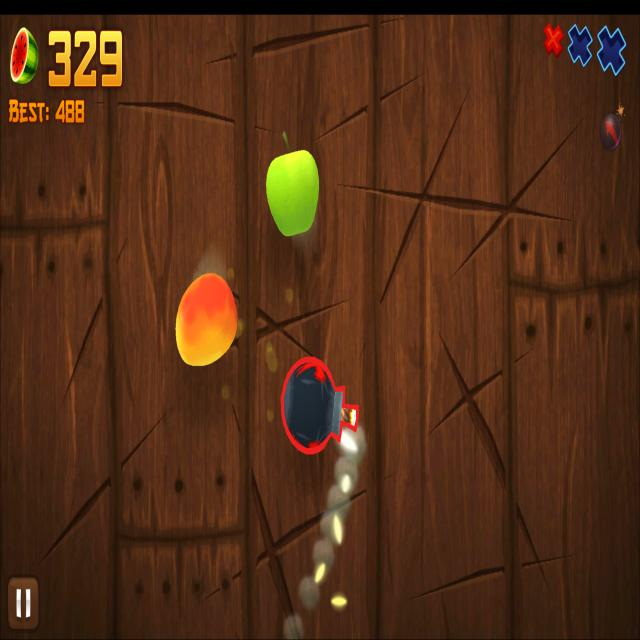bomb: (280, 356, 360, 455)
fruit: (175, 273, 237, 368), (265, 148, 320, 240)
